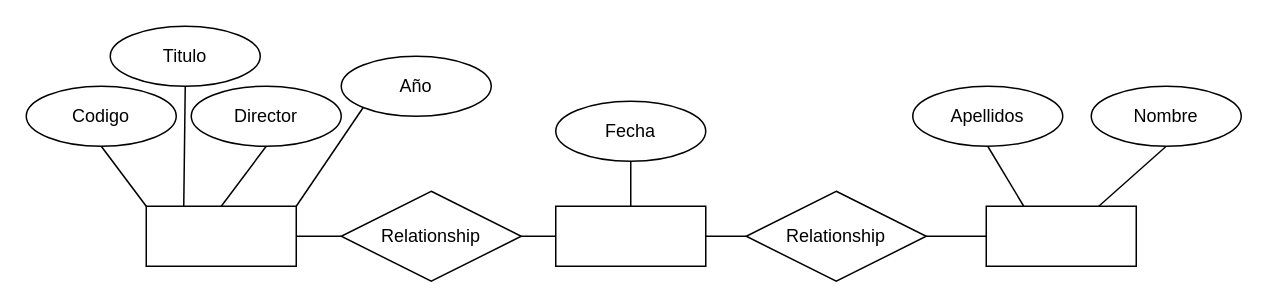
This 1268x308 diagram has some shape labels left out. Here are the shapes that lost their labels. From the top down, the box of each, then its label:
(145, 205, 296, 266): Pelicula
(554, 205, 706, 266): Fecha Devolucion
(985, 205, 1136, 266): Cliente
